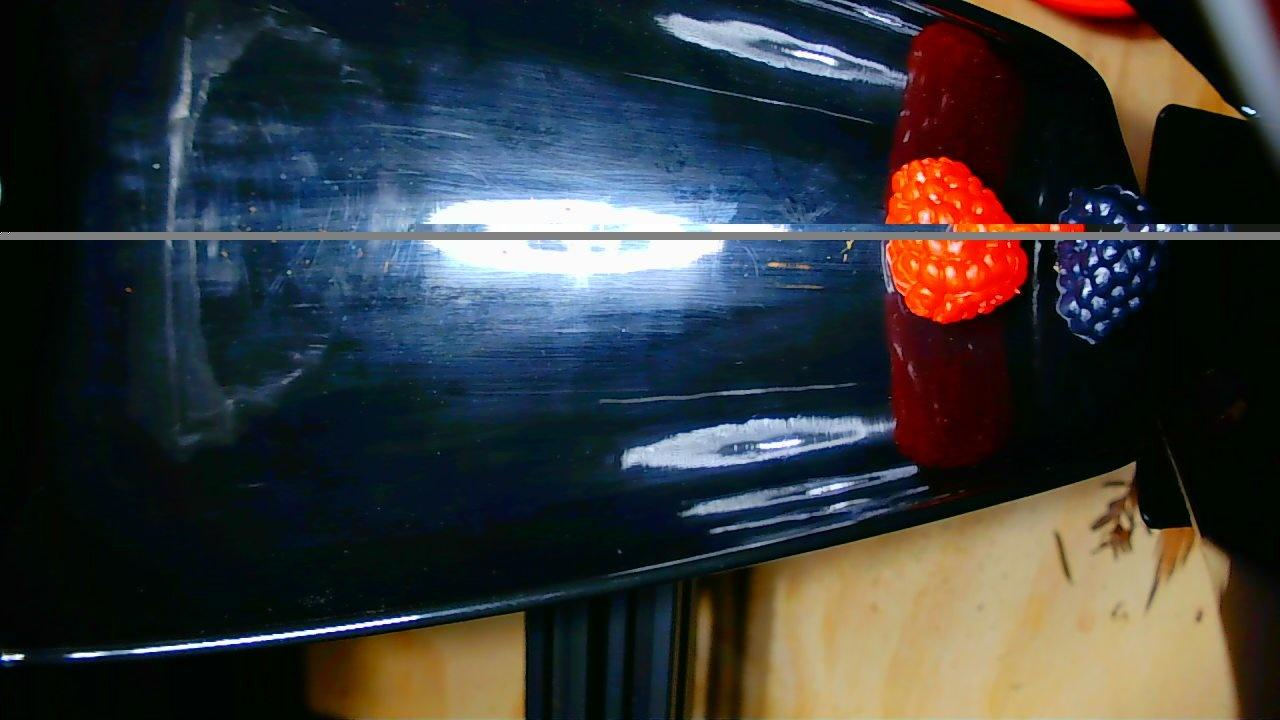berry: (887, 241, 1028, 322), (1057, 239, 1166, 342), (886, 157, 1015, 231), (1060, 185, 1165, 231)
